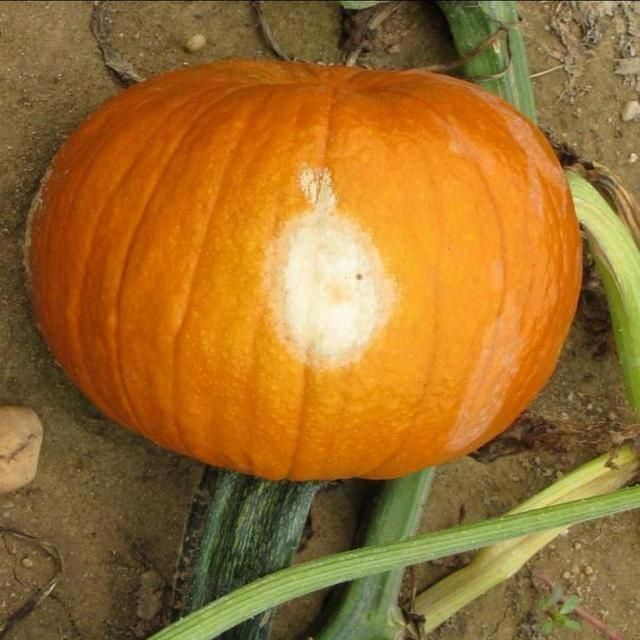Sunscald Fruit: (181, 104, 267, 267)
